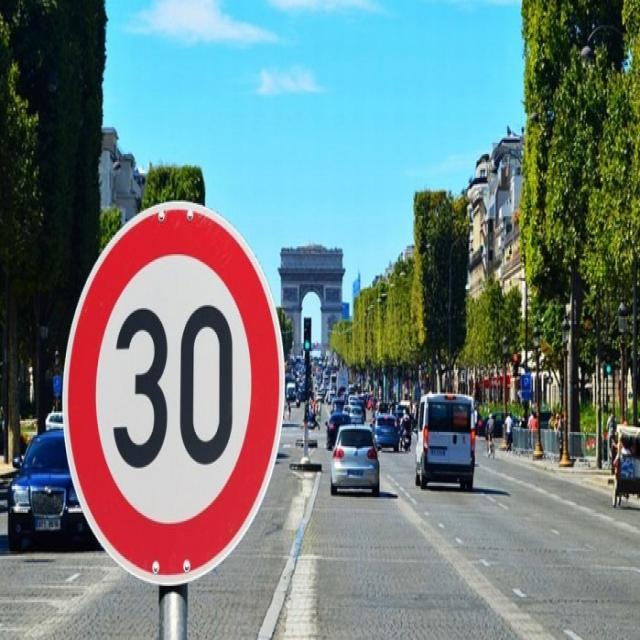Speed Limit -30-: (112, 302, 236, 474)
